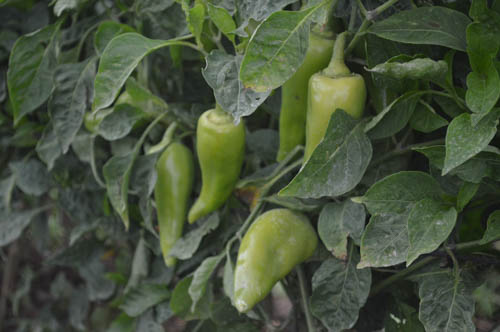ChiliPepper: (237, 209, 321, 310), (272, 37, 331, 157), (186, 112, 248, 223), (152, 144, 196, 268), (306, 76, 369, 162)
